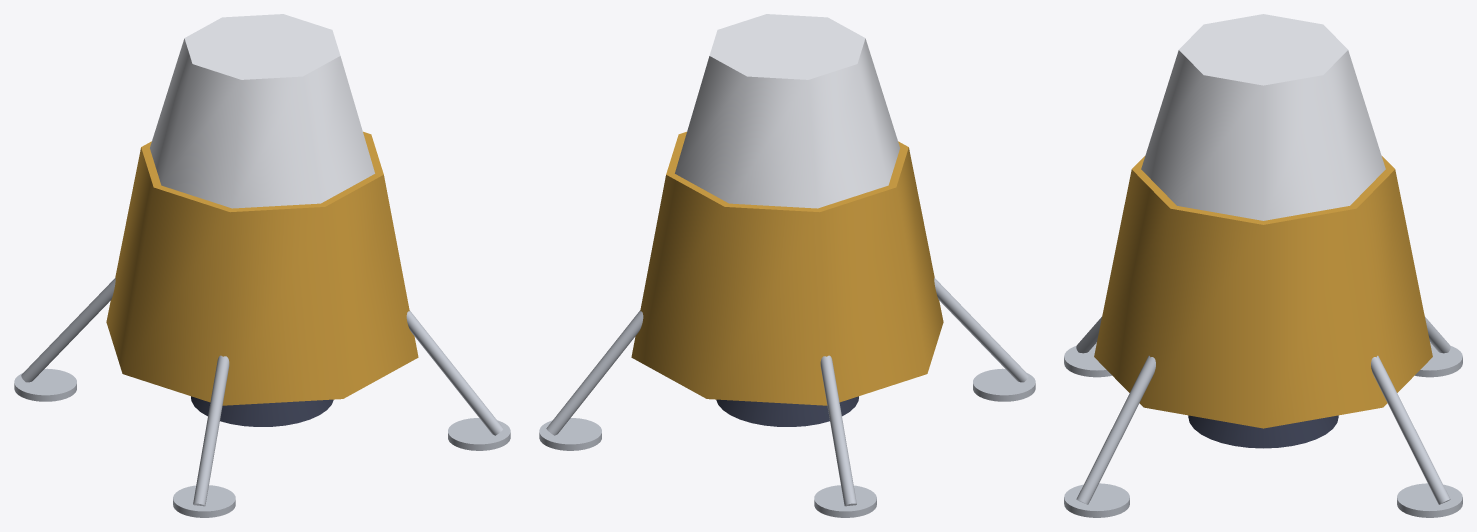
The model's file is lander.glb.
The picture shows the model from 3 angles, left to right: view 1: azimuth 30°, elevation 25°; view 2: azimuth 150°, elevation 25°; view 3: azimuth 270°, elevation 25°; orthographic projection. The views are drawn at different scales.
Parts seen in each view (by area): view 1: lander; view 2: lander; view 3: lander.
Boxes of the visible parts, x1=… form: lander: x1=14, y1=14, x2=510, y2=517; lander: x1=539, y1=14, x2=1035, y2=517; lander: x1=1064, y1=14, x2=1462, y2=517.
Bounding box in the file's own units: 4.24 × 4.5 × 4.24.
